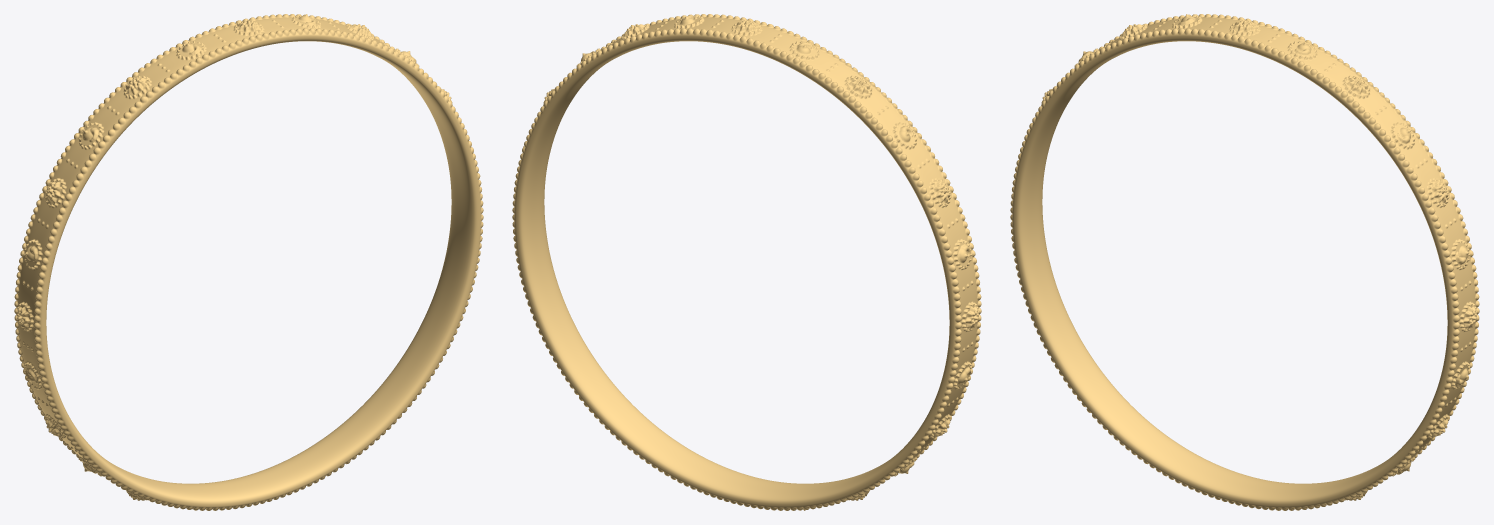
File: bangle_temple_kada.glb
The picture shows the model from 3 angles, left to right: view 1: azimuth 30°, elevation 25°; view 2: azimuth 150°, elevation 25°; view 3: azimuth 330°, elevation 25°; orthographic projection.
Parts seen in each view (by area): view 1: gold; view 2: gold; view 3: gold.
Boxes of the visible parts, x1,y1,x2,y2 form: gold: [14, 14, 483, 510]; gold: [512, 14, 981, 510]; gold: [1010, 14, 1479, 510].
Bounding box in the file's own units: 0.0661 × 0.0661 × 0.006.
